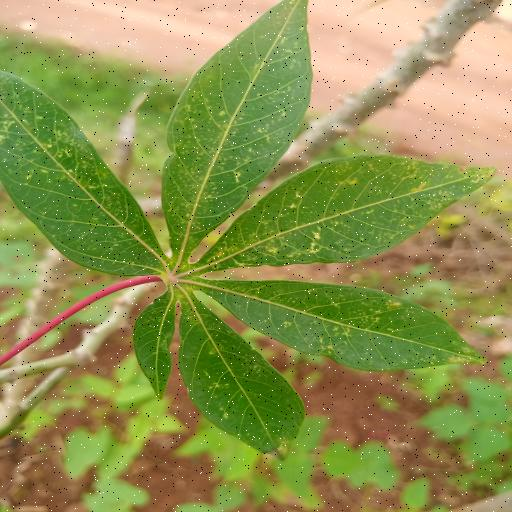Cassava_Mosaic: (1, 2, 494, 452)
